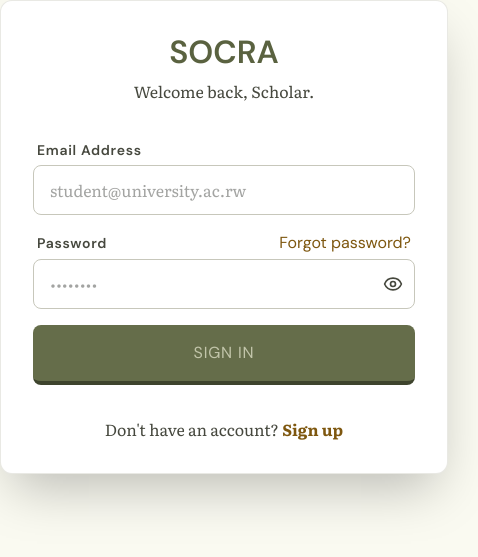
Scenario: SignInForm › displays API error message on failure
This screenshot has width=478, height=557.
Step 1. Type "jane@alu.rw" into the field with placeholder "student@university.ac.rw" → (224, 190), box [33,165,415,215]
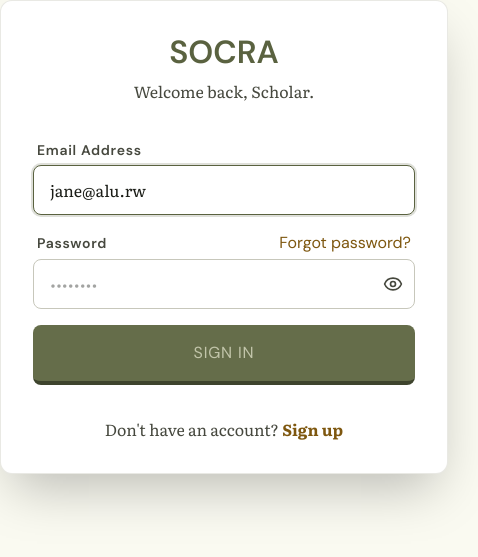
Step 2. Type "wrongpassword" into the password field with placeholder "••••••••" → (224, 284), box [33,259,415,309]
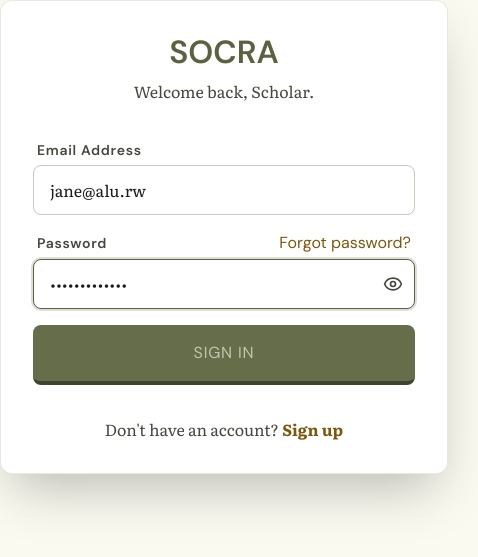
Step 3. Click the button "Sign In" → (224, 355), box [33,325,415,385]
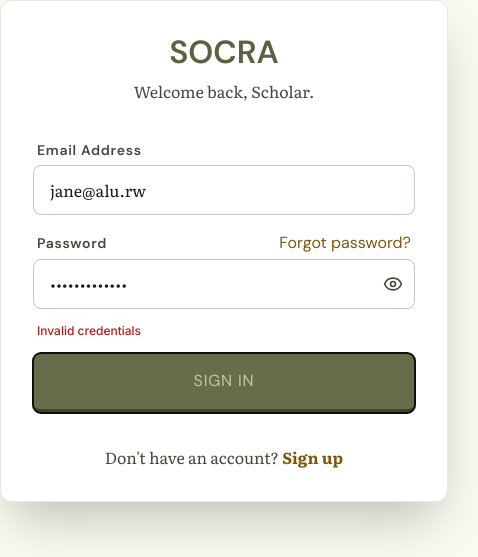
Now the text "Invalid credentials" is shown, box [37,323,141,338]
